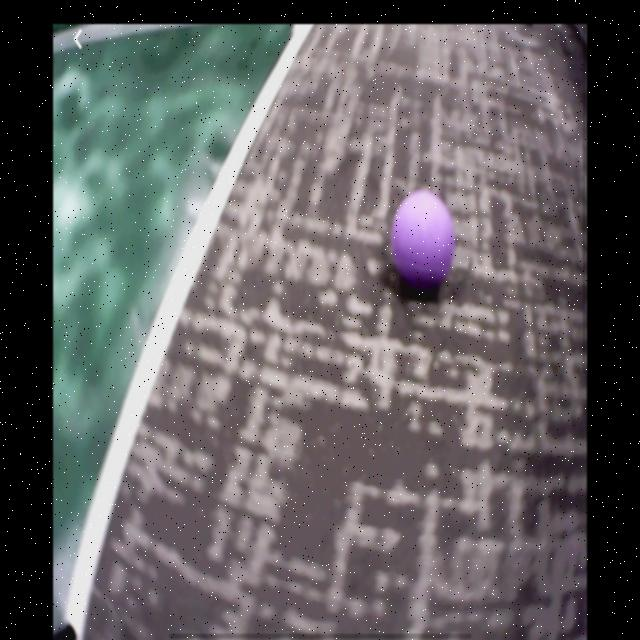ball: (392, 193, 454, 289)
